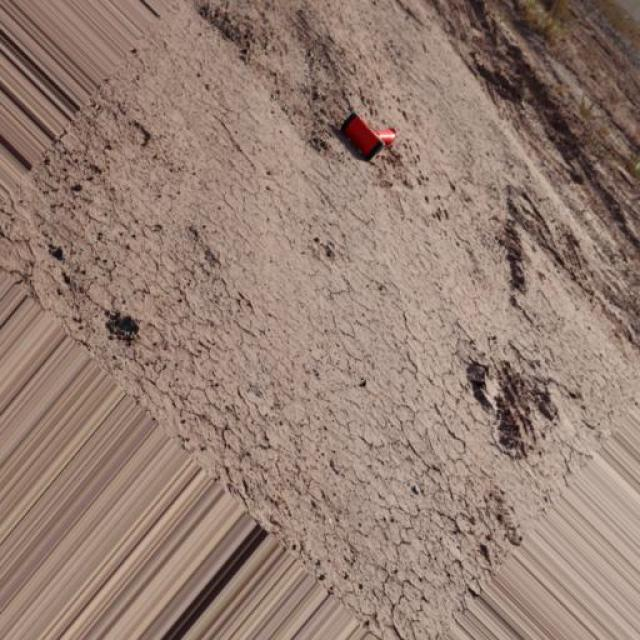mallet: (341, 110, 399, 161)
